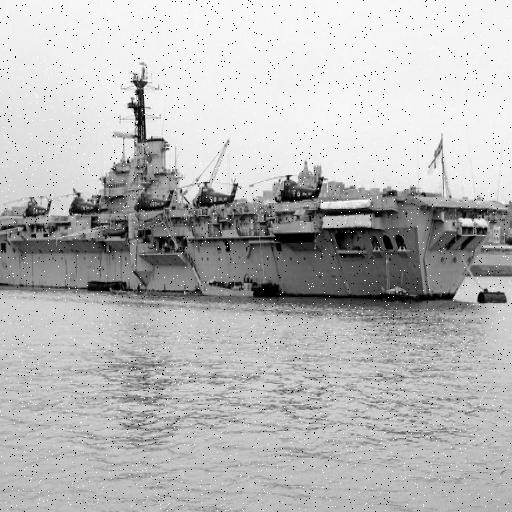Portanaves: (1, 53, 500, 305)
